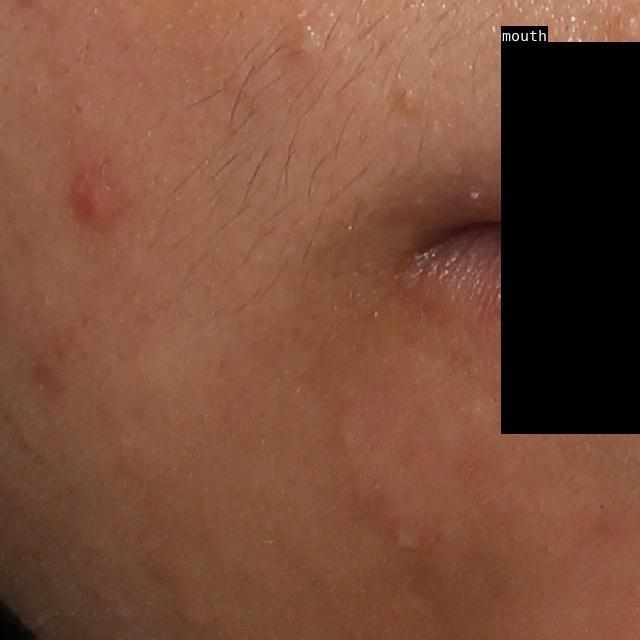comedo: (295, 28, 324, 58)
